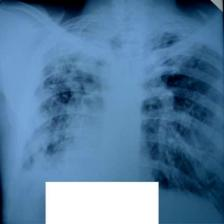tuberculosis: (7, 23, 224, 224)
